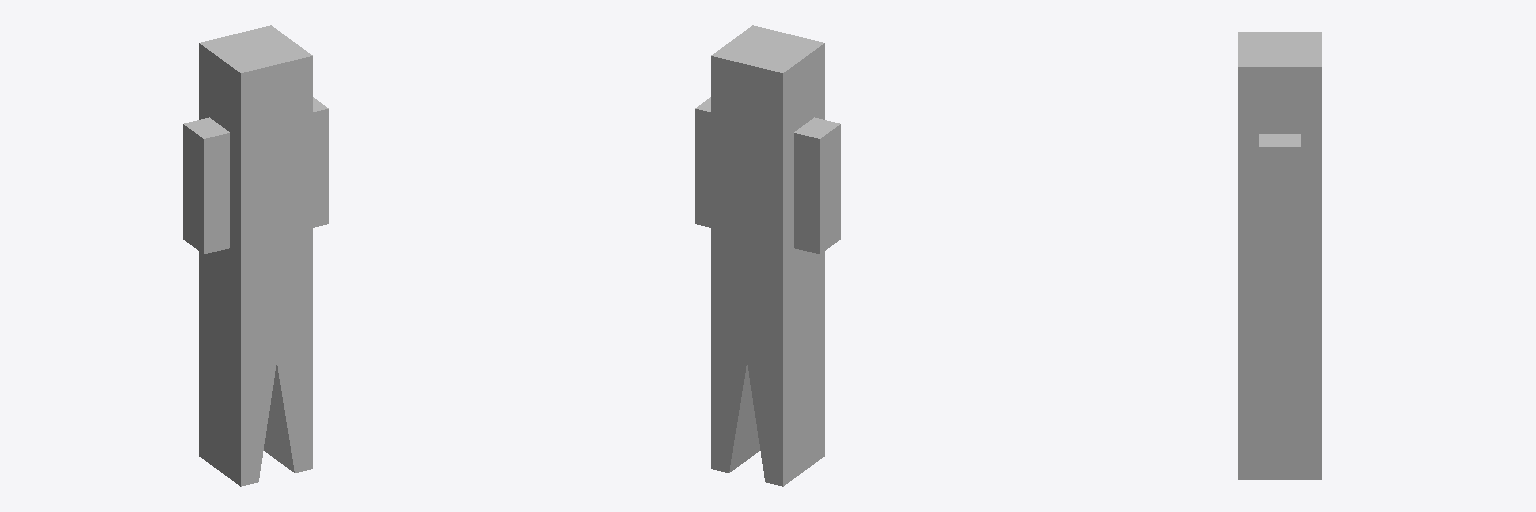
Rendered from player.obj.
3 renders of one model, left to right at view 1: azimuth 30°, elevation 25°; view 2: azimuth 150°, elevation 25°; view 3: azimuth 270°, elevation 25°, orthographic.
Visible parts, largest first — view 1: Cube; view 2: Cube; view 3: Cube.
Boxes of the visible parts, x1=… form: Cube: x1=183, y1=25, x2=328, y2=486; Cube: x1=695, y1=25, x2=840, y2=486; Cube: x1=1238, y1=32, x2=1321, y2=479.
Bounding box in the file's own units: 0.6035 × 1.91 × 0.3485.